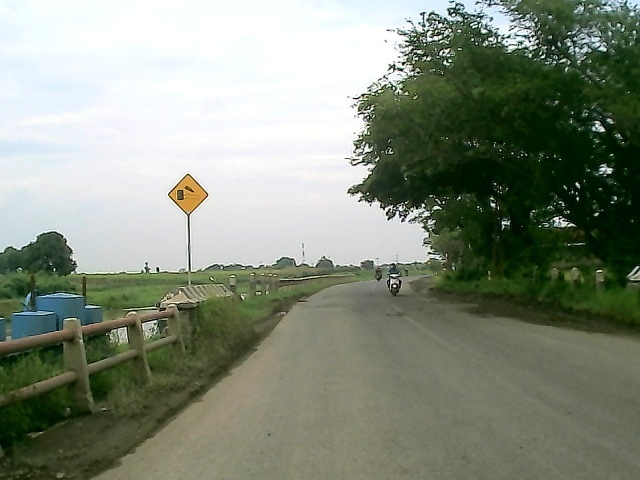Peringatan tepi air: (165, 171, 214, 218)
